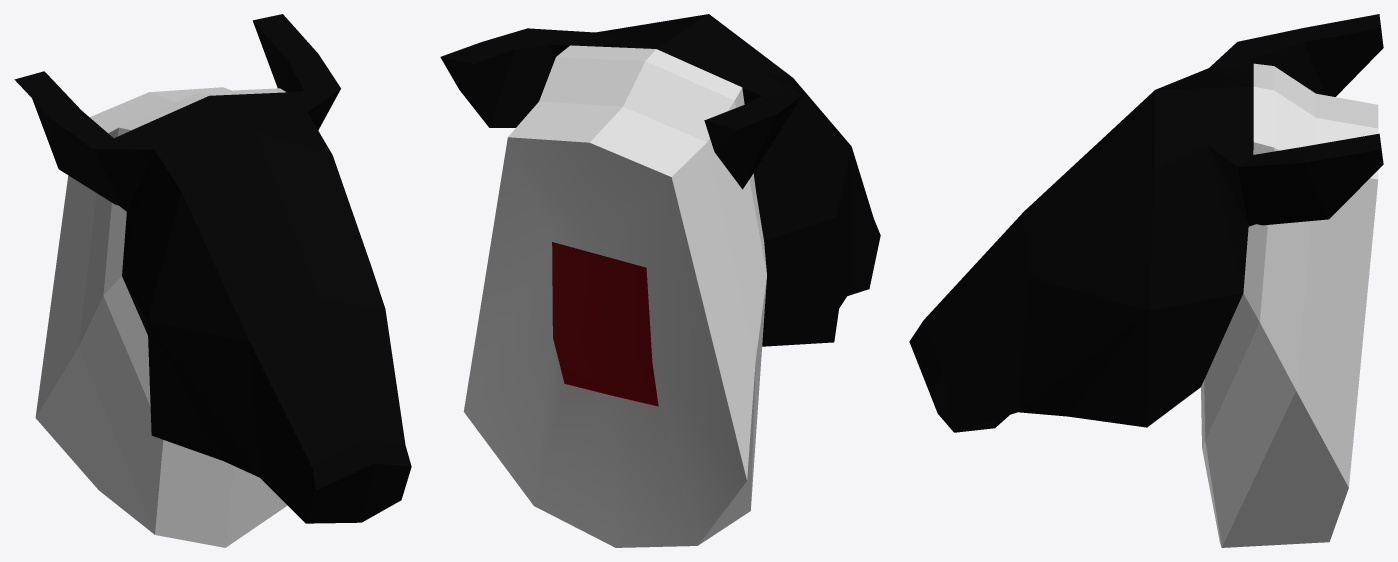
Rendered from testa_pecora.fbx.
3 views of the same model, side by side, from view 1: azimuth 30°, elevation 25°; view 2: azimuth 150°, elevation 25°; view 3: azimuth 270°, elevation 25° (orthographic). The views are drawn at different scales.
Visible parts, largest first — view 1: Testa_Pecora; view 2: Testa_Pecora; view 3: Testa_Pecora.
Part boxes in pixels (bbox=[...]): Testa_Pecora: bbox=[14, 14, 411, 547]; Testa_Pecora: bbox=[440, 14, 880, 547]; Testa_Pecora: bbox=[909, 14, 1383, 547].
Size of the model in its own units: 107 by 170 by 158.
